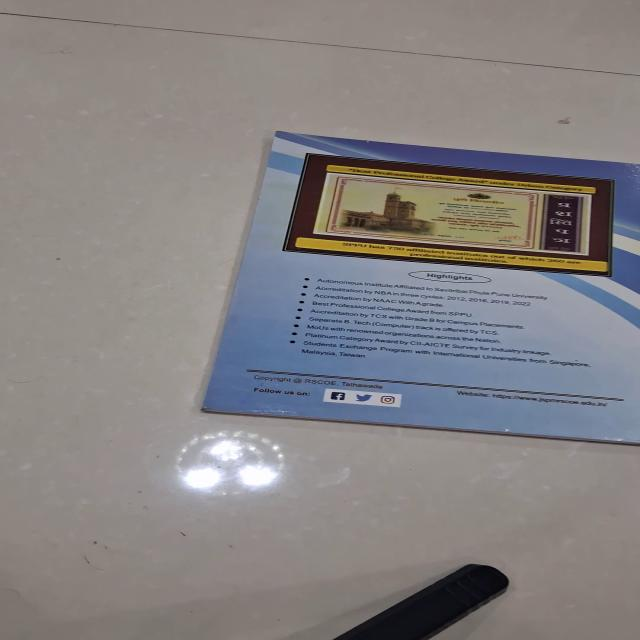paper: (198, 130, 639, 444)
